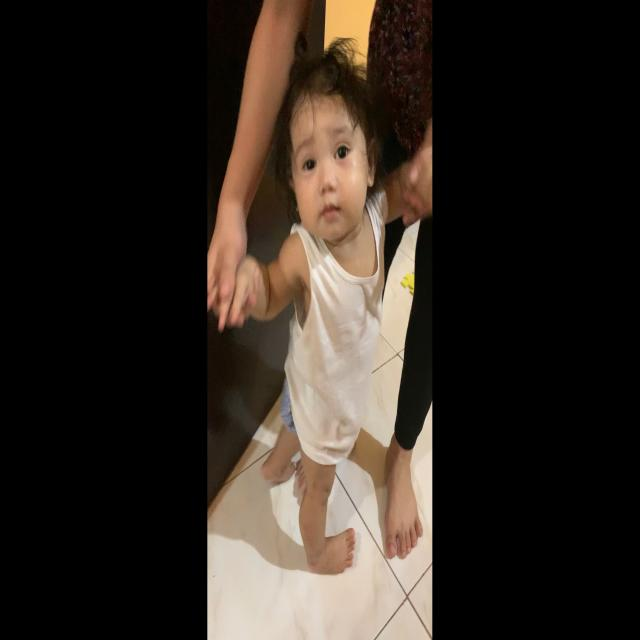child: (206, 52, 446, 577)
